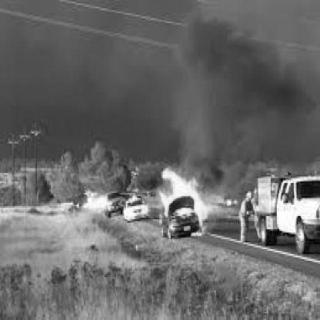Smoke: (187, 17, 297, 153)
other: (238, 189, 262, 245)
